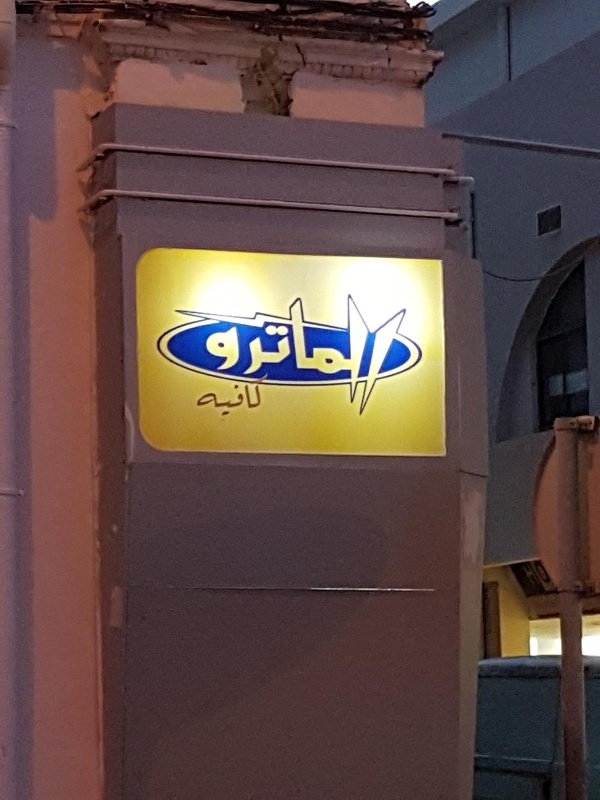text: (209, 293, 224, 417), (225, 293, 240, 417), (241, 293, 256, 417), (257, 293, 272, 417), (273, 293, 288, 417), (289, 293, 304, 417), (305, 293, 320, 417), (321, 293, 336, 417), (337, 293, 352, 417), (353, 293, 368, 417), (369, 293, 384, 417), (385, 293, 400, 417), (401, 293, 412, 417), (209, 373, 224, 418), (225, 373, 240, 418), (241, 373, 256, 418), (195, 373, 208, 418), (257, 373, 270, 418), (205, 293, 208, 417), (531, 564, 544, 586), (545, 559, 554, 586), (540, 559, 544, 586)
